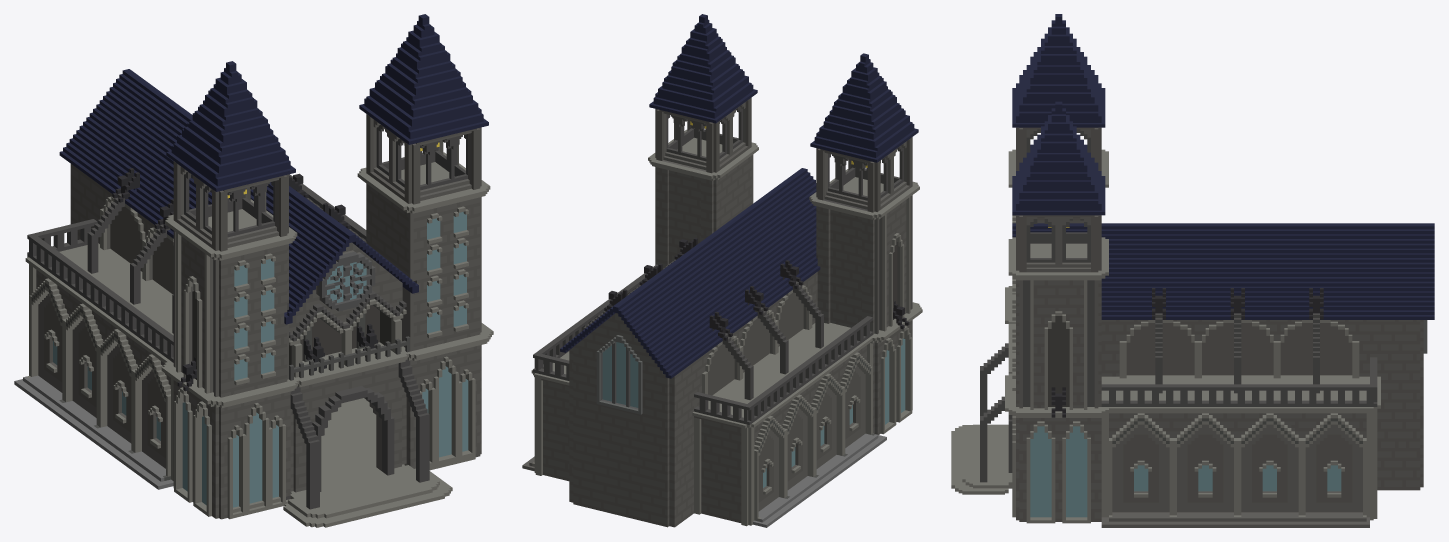
The model's file is church-16-ch_iso.obj.
The picture shows the model from 3 angles, left to right: view 1: azimuth 30°, elevation 25°; view 2: azimuth 150°, elevation 25°; view 3: azimuth 270°, elevation 25°; orthographic projection. The views are drawn at different scales.
Parts seen in each view (by area): view 1: ch_iso; view 2: ch_iso; view 3: ch_iso.
Boxes of the visible parts, <box> form: ch_iso: <box>14,14,493,527</box>; ch_iso: <box>522,14,922,527</box>; ch_iso: <box>951,14,1434,527</box>.
Bounding box in the file's own units: 8.8 × 12.4 × 13.5.
1 material, 1 textured.
